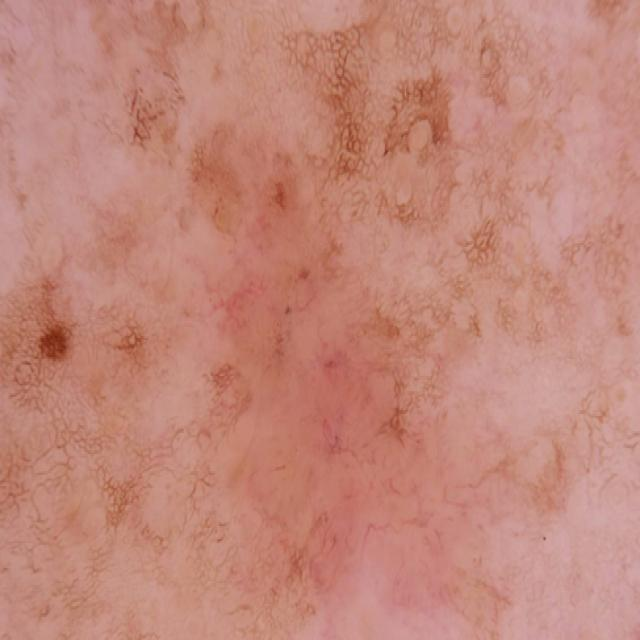Carcinoma: (209, 250, 458, 632), (18, 258, 125, 426)
